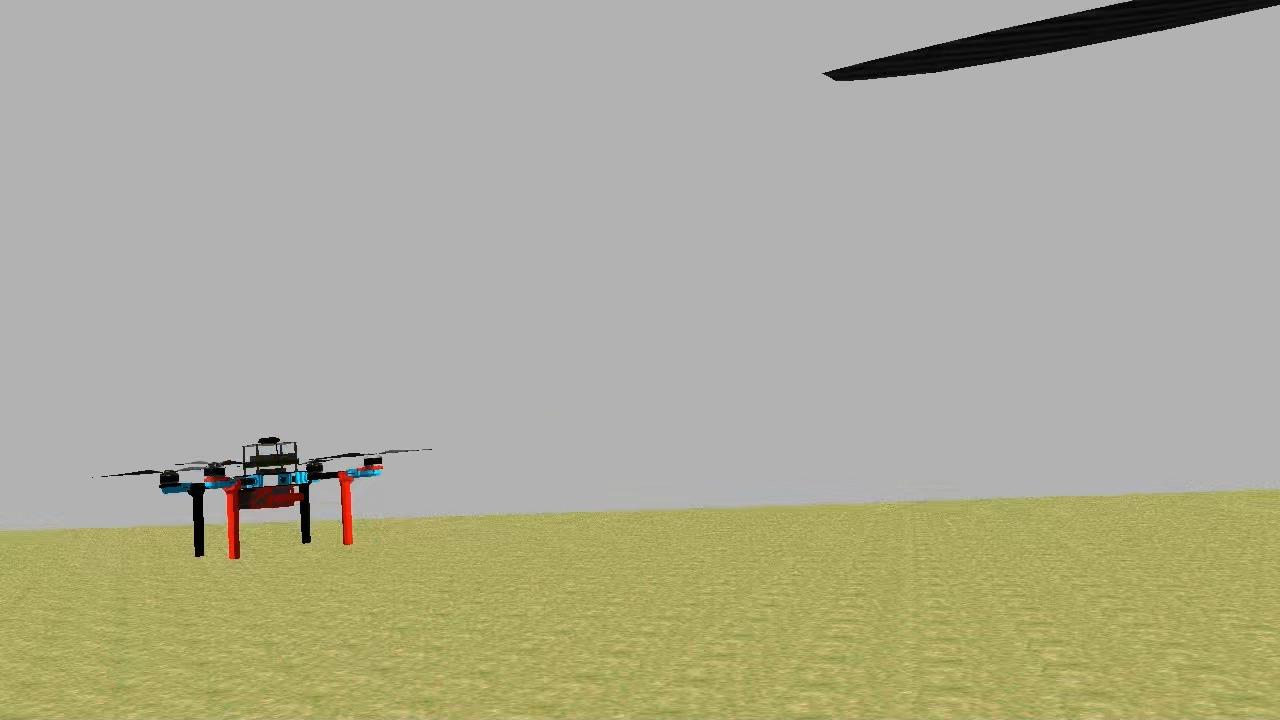UAV: (151, 427, 390, 564)
